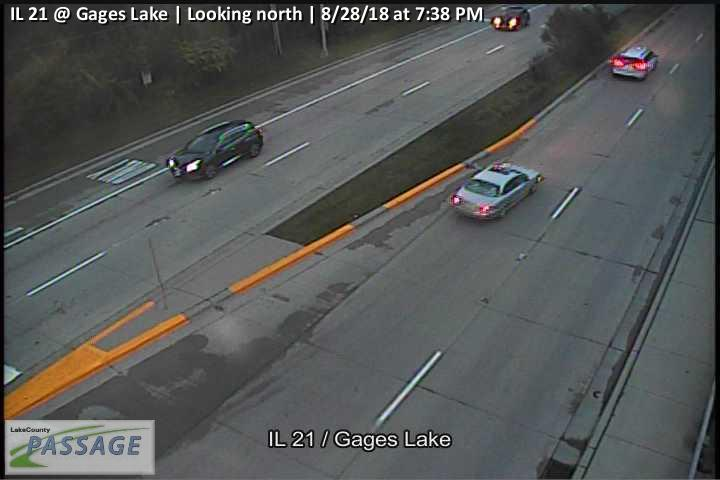SUV: (167, 119, 263, 179)
Sedan: (450, 162, 541, 223), (610, 46, 657, 78), (491, 7, 530, 30)
